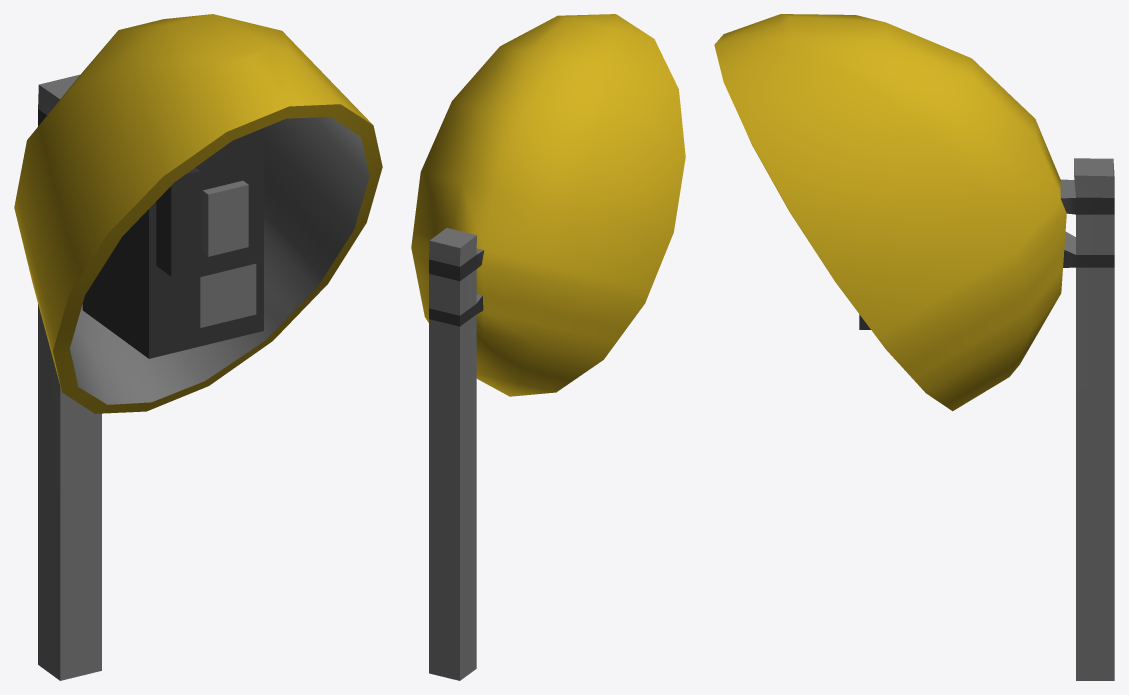
Rendered from Phone1.fbx.
3 renders of one model, left to right at view 1: azimuth 30°, elevation 25°; view 2: azimuth 150°, elevation 25°; view 3: azimuth 270°, elevation 25°, orthographic. The views are drawn at different scales.
Parts seen in each view (by area): view 1: Phone1; view 2: Phone1; view 3: Phone1.
Part boxes in pixels (<box>): Phone1: <box>14,14,382,680</box>; Phone1: <box>411,14,685,680</box>; Phone1: <box>714,14,1114,680</box>.
Bounding box in the file's own units: 111 × 264 × 148.
